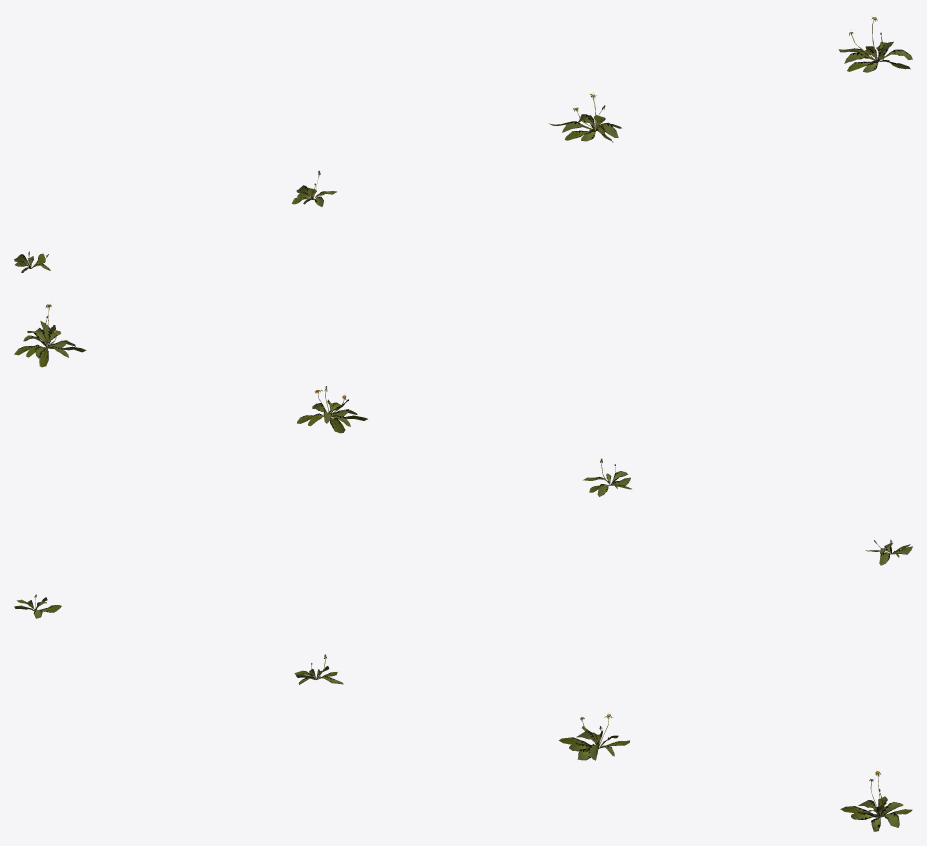
The model's file is dandelion.glb.
The picture shows the model from 3 angles, top to bottom: view 1: azimuth 30°, elevation 25°; view 2: azimuth 150°, elevation 25°; view 3: azimuth 330°, elevation 25°; orthographic projection.
Parts seen in each view (by area): view 1: dandelion_01_a_LOD0, dandelion_01_b_LOD0; view 2: dandelion_01_a_LOD0, dandelion_01_b_LOD0, dandelion_01_c_LOD0; view 3: dandelion_01_a_LOD0, dandelion_01_b_LOD0.
Boxes of the visible parts, x1,y1,x2,y2 form: dandelion_01_a_LOD0: (838,17,912,72); dandelion_01_b_LOD0: (549,94,621,142); dandelion_01_a_LOD0: (14,304,86,367); dandelion_01_b_LOD0: (297,386,367,433); dandelion_01_c_LOD0: (583,458,631,496); dandelion_01_a_LOD0: (840,771,912,831); dandelion_01_b_LOD0: (559,714,629,760).
Bounding box in the file's own units: 3.15 × 0.1637 × 0.2577.
Materials: 1 (1 with a texture image).
